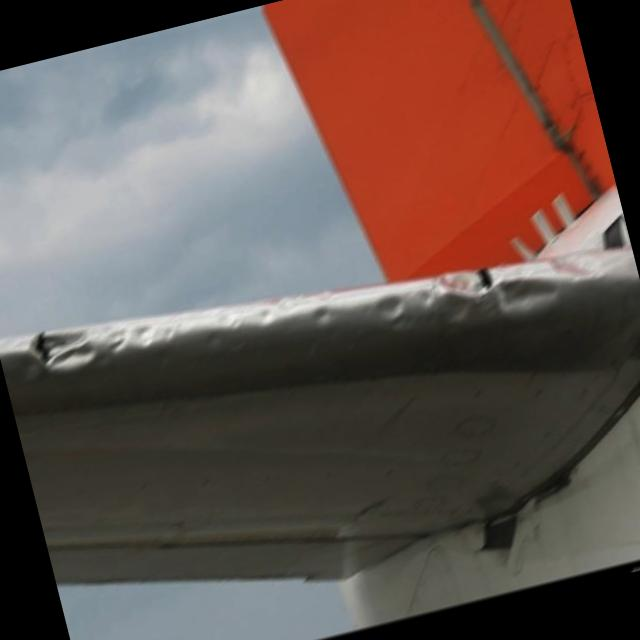dent: (21, 192, 618, 442)
